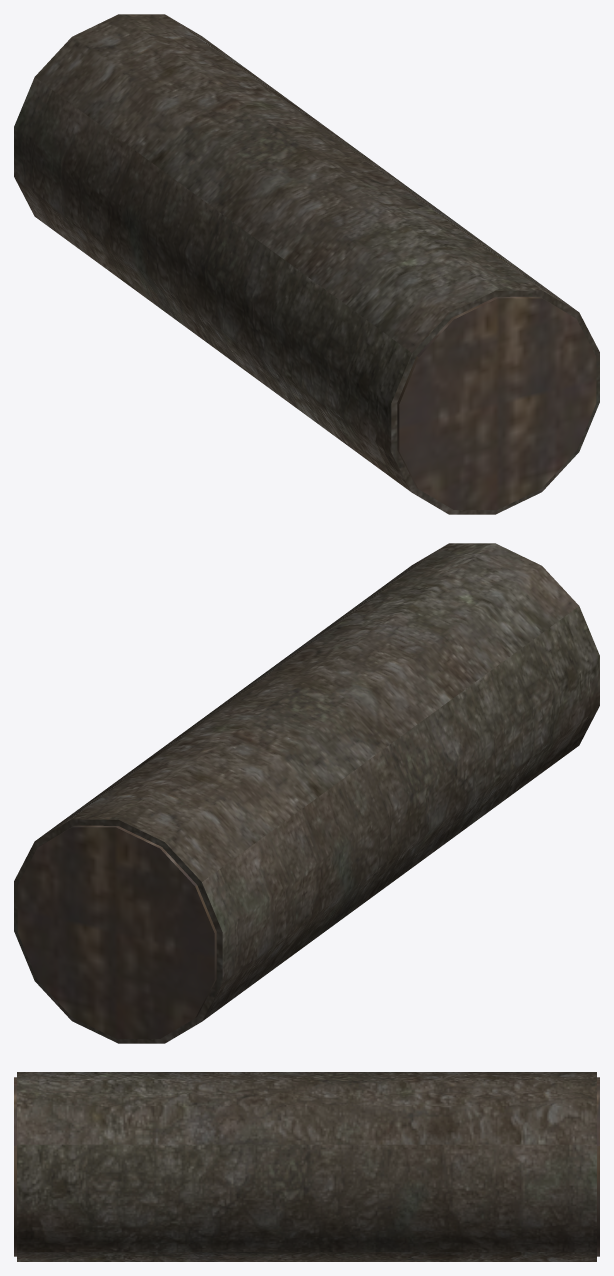
The model's file is log.glb.
3 views of the same model, one above another, from view 1: azimuth 30°, elevation 25°; view 2: azimuth 150°, elevation 25°; view 3: azimuth 270°, elevation 25° (orthographic). The views are drawn at different scales.
Parts seen in each view (by area): view 1: Body; view 2: Body; view 3: Body.
Boxes of the visible parts, left/top/right/bottom form: Body: left=14, top=14, right=599, bottom=514; Body: left=14, top=543, right=599, bottom=1043; Body: left=14, top=1072, right=599, bottom=1261.
Size of the model in its own units: 0.1755 by 0.18 by 0.556.
Materials: 2 (2 with a texture image).
